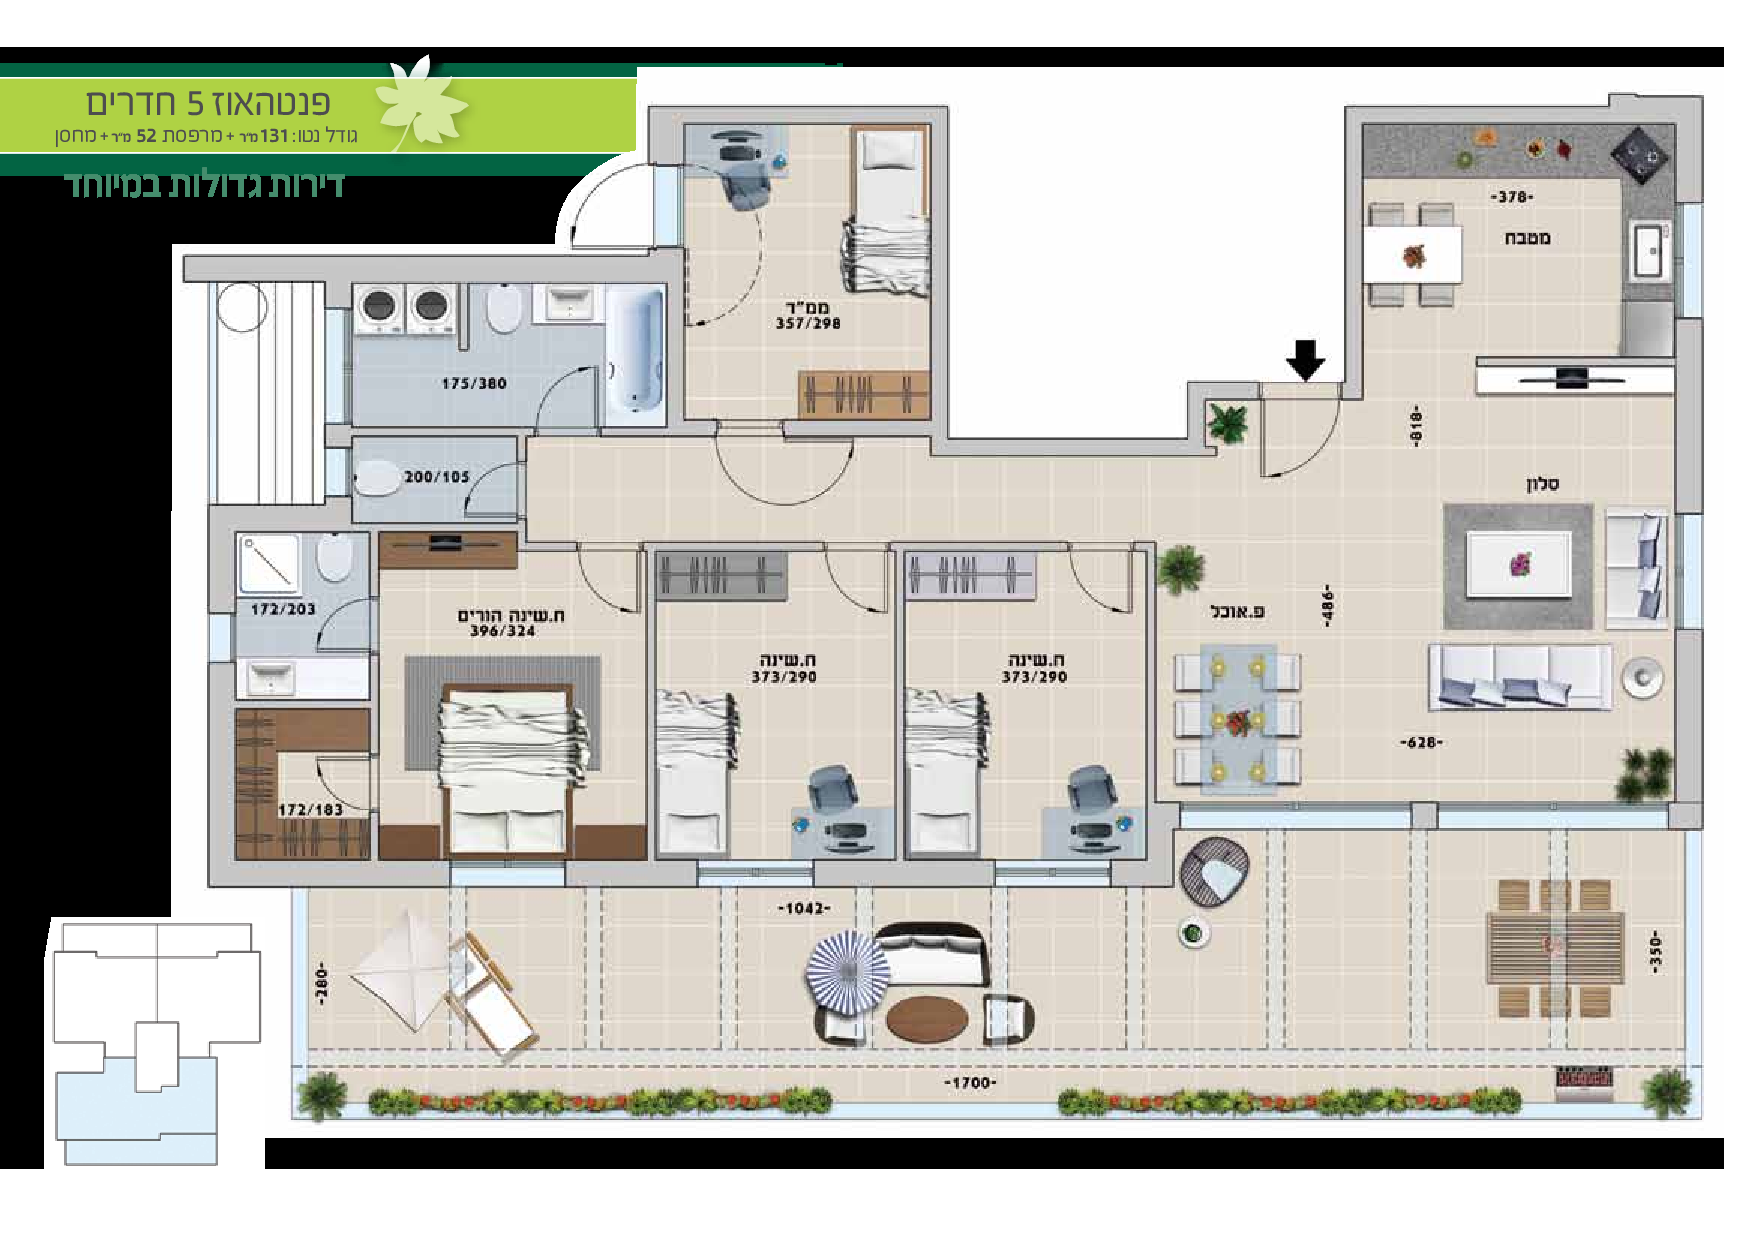door: (1249, 407, 1353, 491), (573, 553, 647, 619), (819, 553, 892, 619), (1066, 549, 1139, 615), (313, 595, 368, 659), (460, 460, 515, 523), (313, 754, 361, 817)
wall: (183, 255, 683, 282), (1673, 317, 1704, 514), (236, 862, 450, 888), (209, 664, 235, 888), (648, 105, 945, 123), (931, 125, 947, 454), (1345, 107, 1361, 403), (1363, 107, 1610, 122), (950, 439, 1190, 454), (209, 505, 234, 612)
window: (1180, 804, 1413, 832), (1436, 801, 1669, 829), (1672, 513, 1704, 633), (1672, 203, 1704, 318), (323, 309, 352, 421), (450, 860, 568, 887), (697, 862, 815, 888), (993, 860, 1111, 887), (323, 446, 353, 497)
